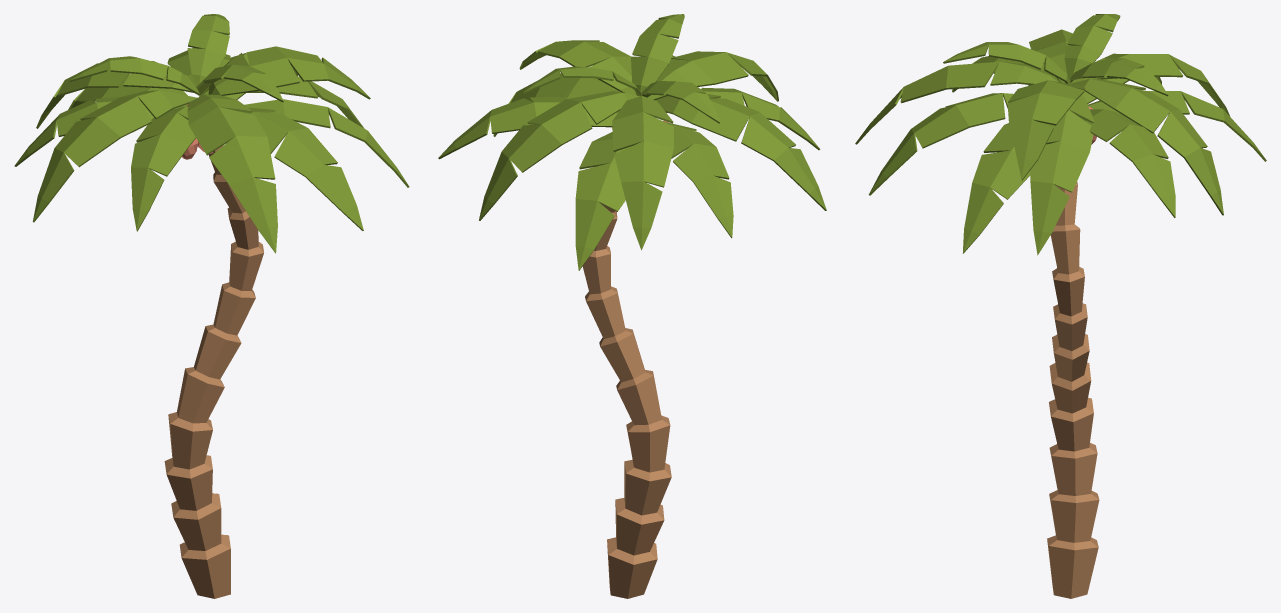
The model's file is Palm_6.fbx.
3 views of the same model, side by side, from view 1: azimuth 30°, elevation 25°; view 2: azimuth 150°, elevation 25°; view 3: azimuth 270°, elevation 25° (orthographic).
Parts seen in each view (by area): view 1: Palm_6.001; view 2: Palm_6.001; view 3: Palm_6.001.
Part boxes in pixels (box(x1,y1,x2,y2)): Palm_6.001: box(14, 14, 409, 598); Palm_6.001: box(438, 14, 826, 598); Palm_6.001: box(855, 14, 1266, 598).
Bounding box in the file's own units: 2.62 × 4.01 × 2.74.
